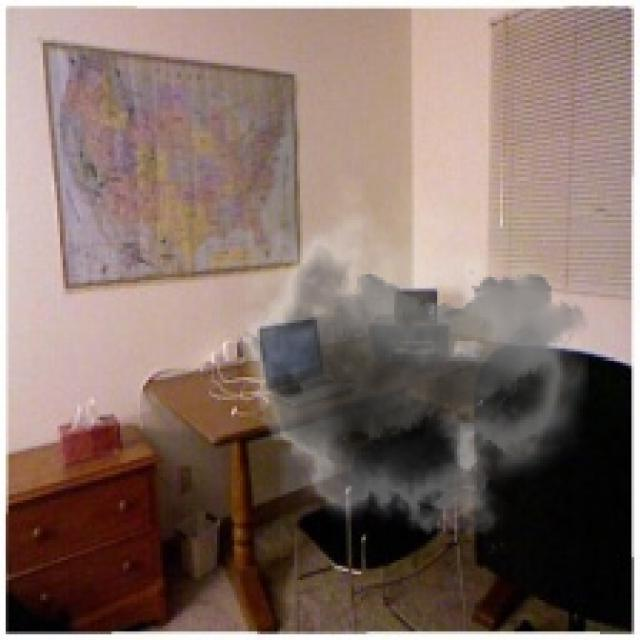smoke: (220, 172, 589, 554)
